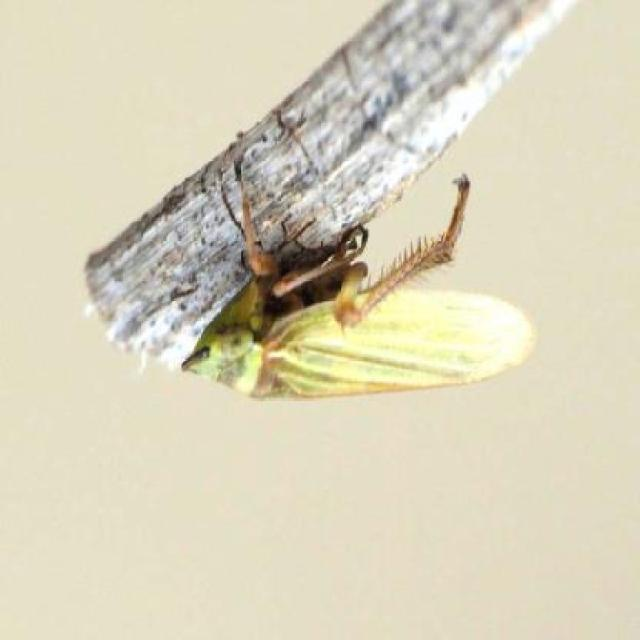green-leafhopper: (183, 166, 545, 412)
